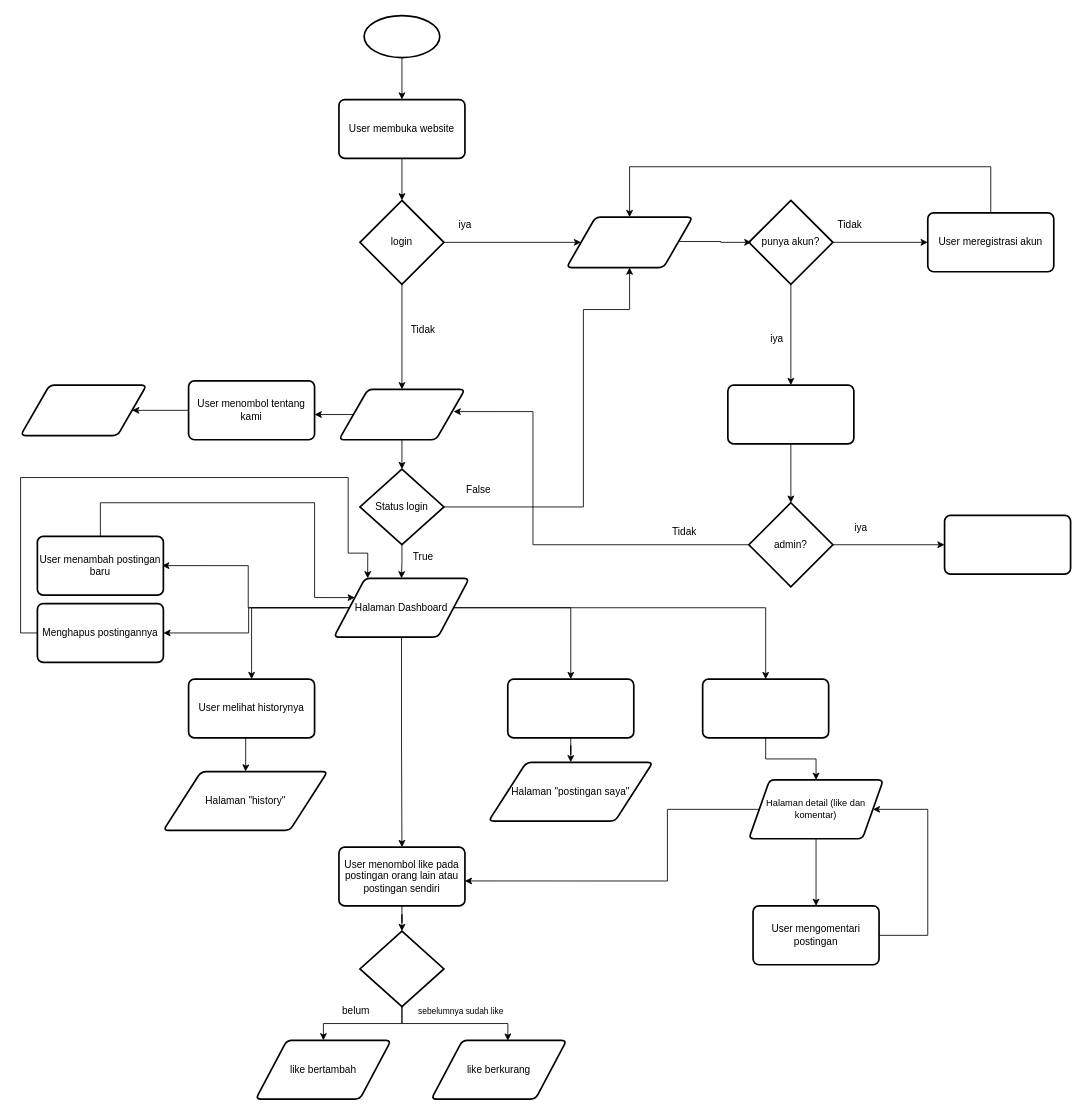
Some shapes in this 1086 by 1114 pixel diagram are drawn without their labels. The shapes that lost their labels are listed below. From the top down, each one's centre as x and y in pixels, then its label:
the point at 401,36: Mulai
the point at 629,242: Halaman login
the point at 83,410: Halaman AboutMe
the point at 401,414: Halaman Utama
the point at 790,414: Masukan email/nama dan passwordnya
the point at 1007,544: User Memasuki panel admin
the point at 570,708: User mengecek "postingan saya"
the point at 765,708: User menombol view details
the point at 401,968: belum like?
